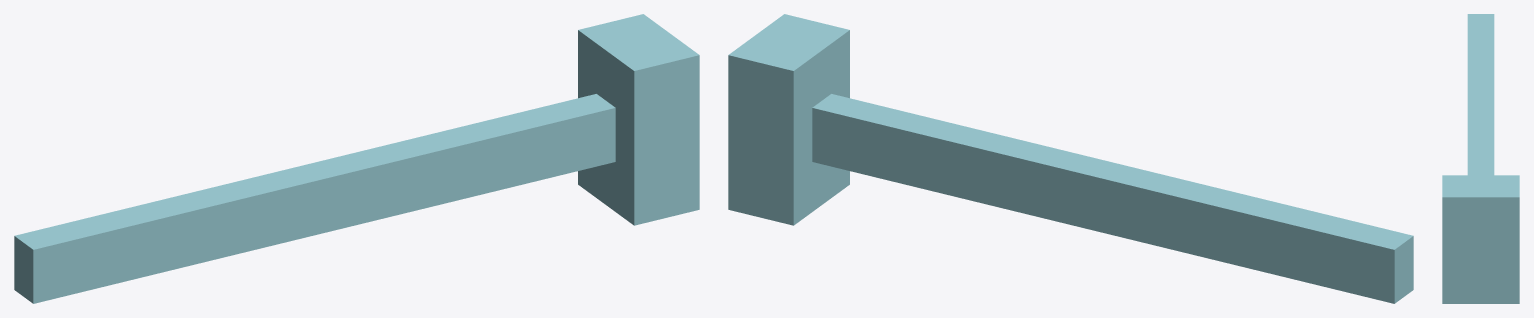
The model's file is cuboid_hammer_v012.obj.
3 renders of one model, left to right at view 1: azimuth 30°, elevation 25°; view 2: azimuth 150°, elevation 25°; view 3: azimuth 270°, elevation 25°, orthographic. The views are drawn at different scales.
Bounding box in the file's own units: 0.3093 × 0.0706 × 0.0465.
1 material, 1 textured.
